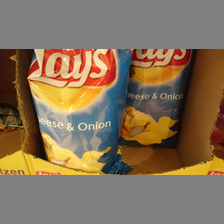chips: (25, 50, 130, 174), (122, 51, 192, 150)
